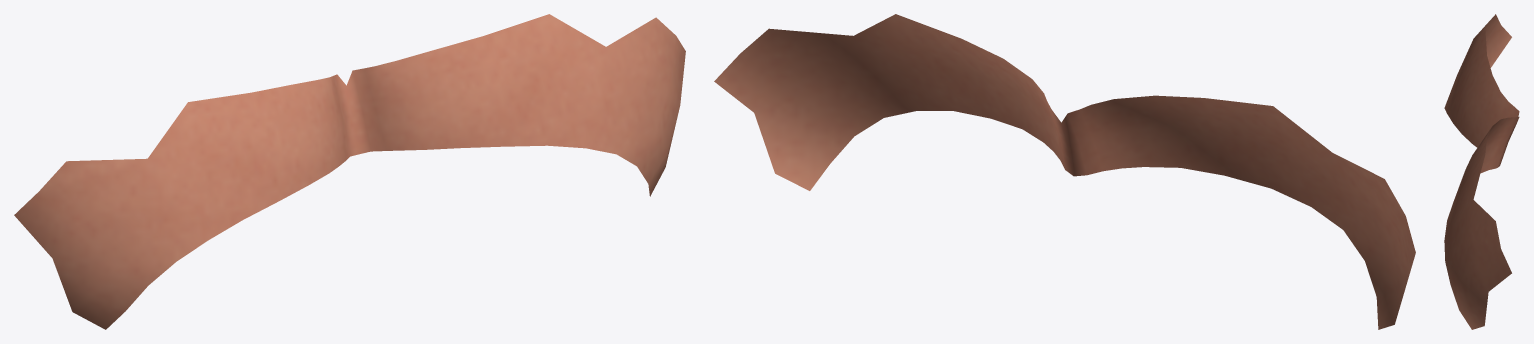
Rendered from chest_mid.glb.
The picture shows the model from 3 angles, left to right: view 1: azimuth 30°, elevation 25°; view 2: azimuth 150°, elevation 25°; view 3: azimuth 270°, elevation 25°; orthographic projection. The views are drawn at different scales.
Parts seen in each view (by area): view 1: chest_mid; view 2: chest_mid; view 3: chest_mid.
Part boxes in pixels (bbox=[...]): chest_mid: bbox=[14, 14, 685, 329]; chest_mid: bbox=[714, 14, 1415, 329]; chest_mid: bbox=[1444, 14, 1519, 329].
Size of the model in its own units: 0.0368 by 0.0104 by 0.00495.
Materials: 1 (1 with a texture image).
